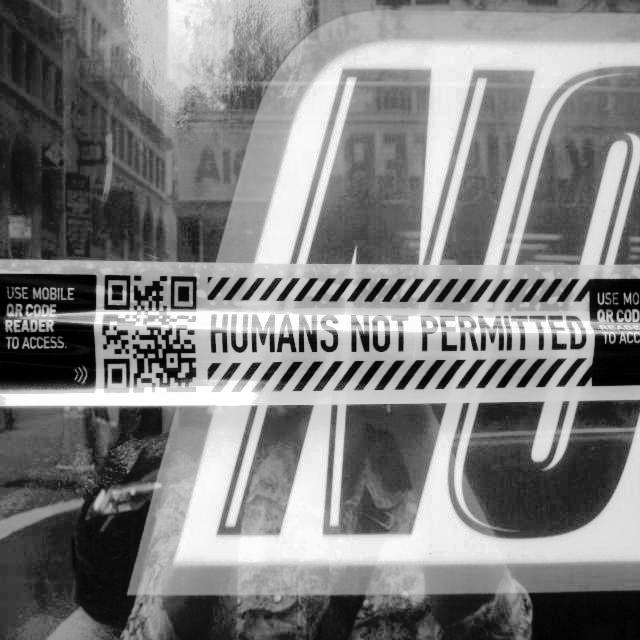qr_code: (104, 275, 197, 393)
